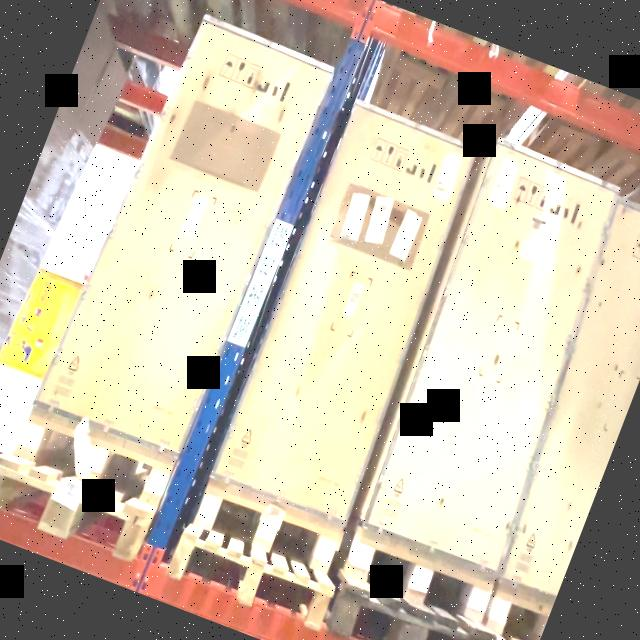box: (35, 17, 335, 462), (213, 98, 479, 521), (366, 140, 620, 576)
